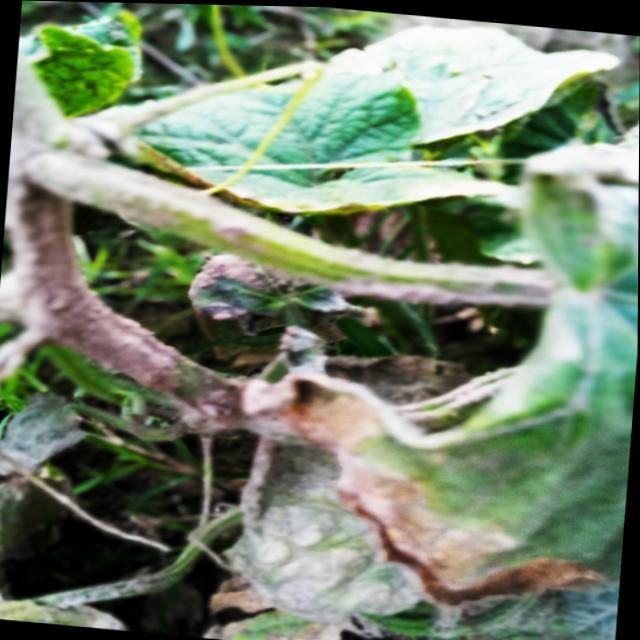Bacterial-Wilt: (242, 140, 639, 599)
